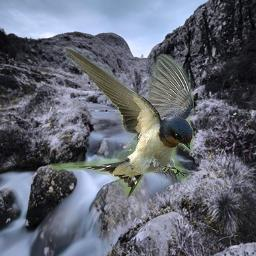Swallow: (50, 44, 194, 197)
